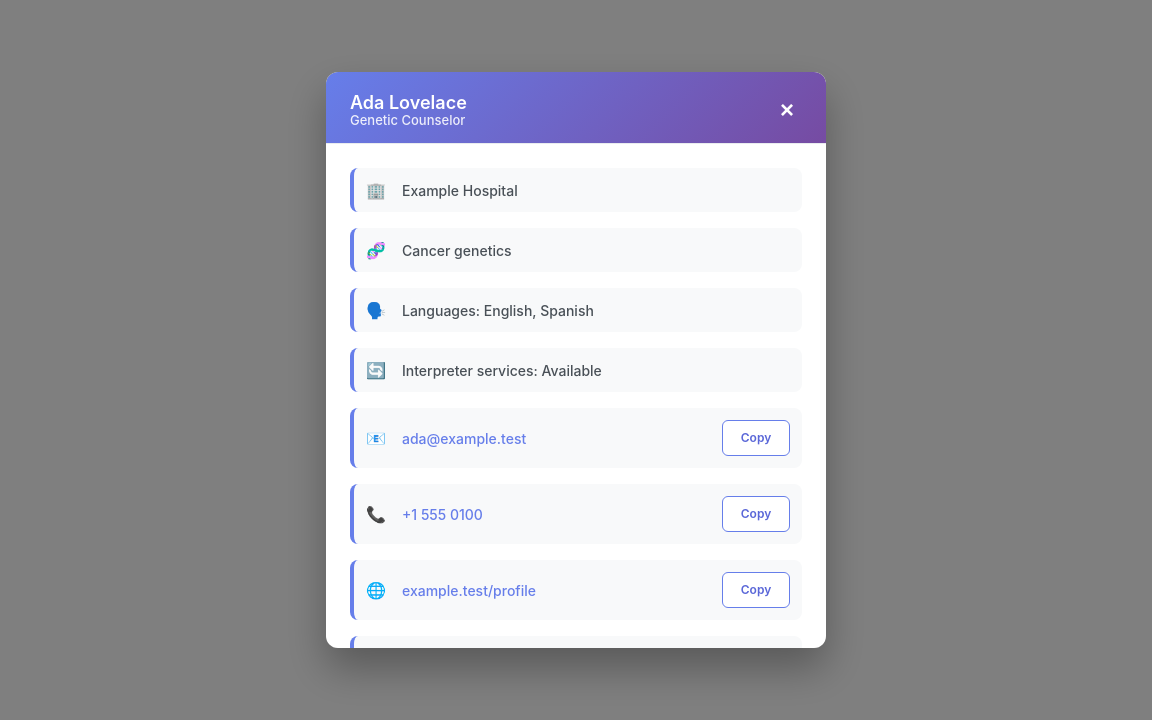
ContactDetailsModal › falls back to selectable text without claiming clipboard success
This screenshot has width=1152, height=720.
Click the button "Copy" in the row of "ada@example.test".
click(756, 438)  # box top-left (722, 420), bottom-right (790, 456)
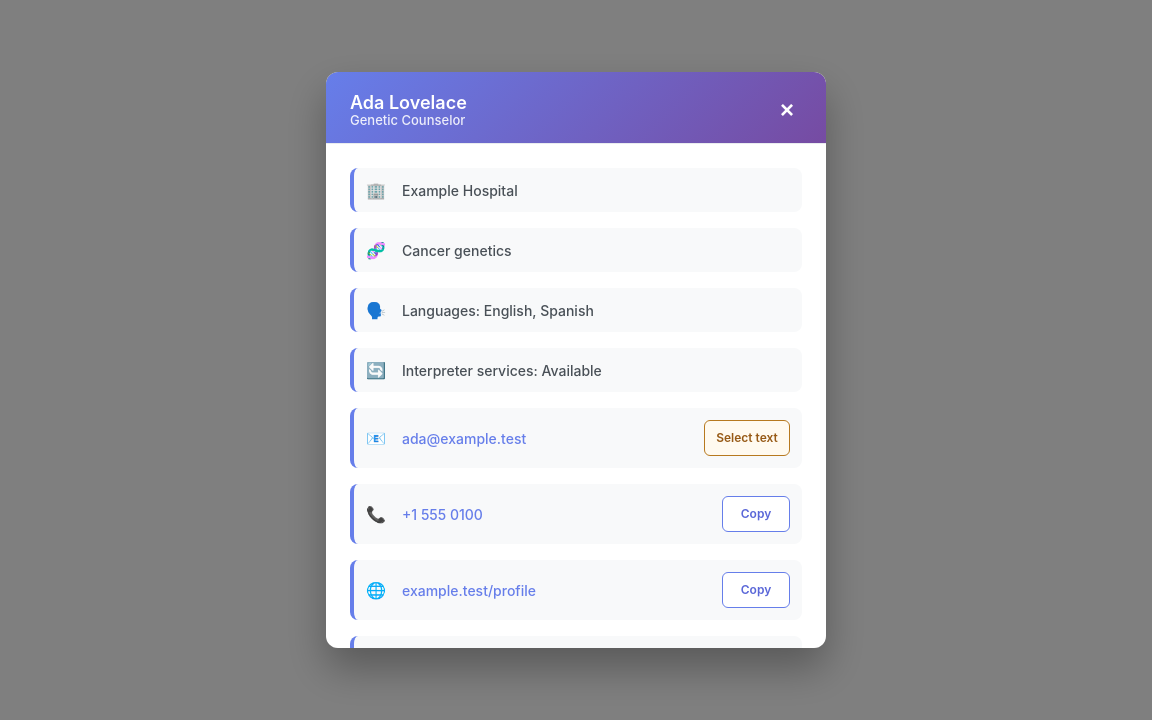
Check: the button "Select text" is shown, box top-left (704, 420), bottom-right (790, 456)
